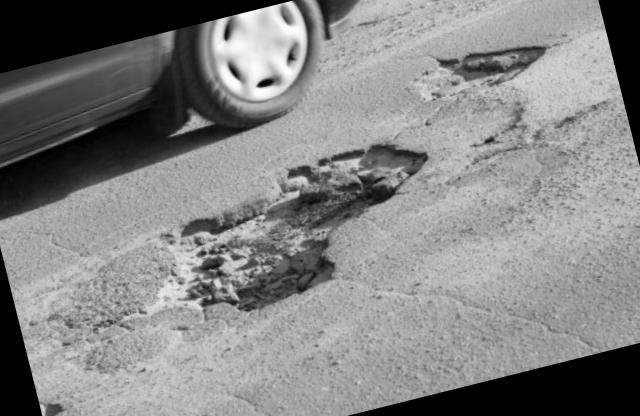Pothole: (129, 121, 450, 339), (402, 30, 555, 112)
